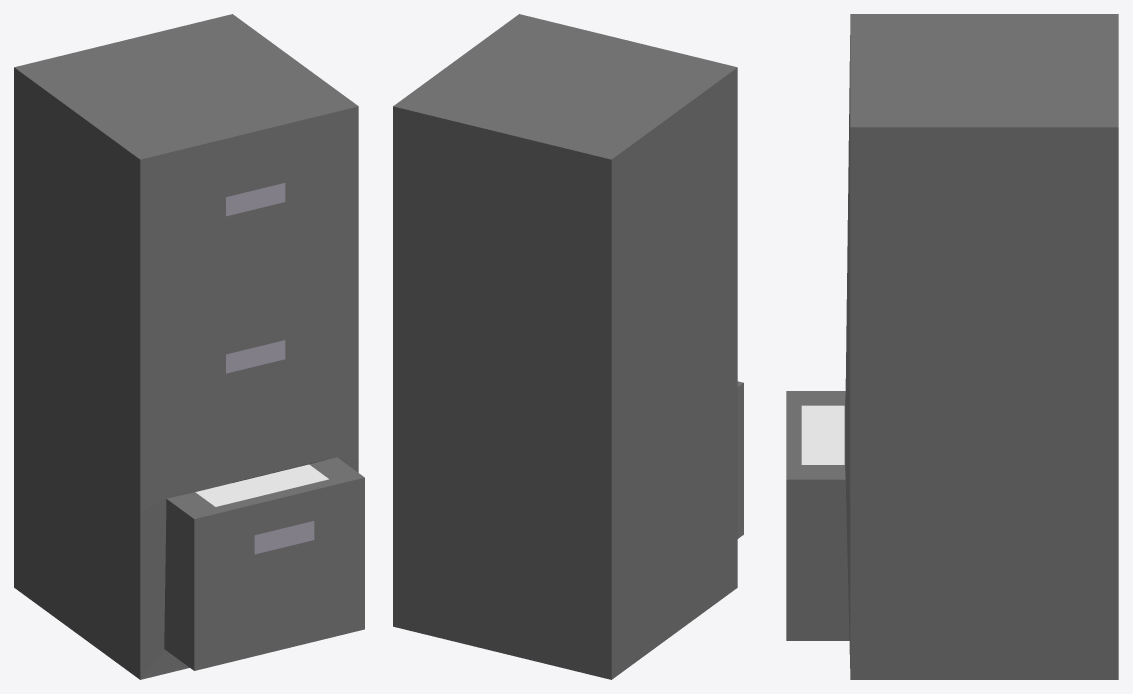
Rendered from filecab1.dae.
3 views of the same model, side by side, from view 1: azimuth 30°, elevation 25°; view 2: azimuth 150°, elevation 25°; view 3: azimuth 270°, elevation 25° (orthographic). The views are drawn at different scales.
Parts seen in each view (by area): view 1: filecab1; view 2: filecab1; view 3: filecab1.
Boxes of the visible parts, box(x1,y1,x2,y2) form: filecab1: box(14, 14, 364, 679); filecab1: box(393, 14, 743, 679); filecab1: box(786, 14, 1118, 679).
Bounding box in the file's own units: 1.05 × 1.35 × 2.39.
1 material, 1 textured.
